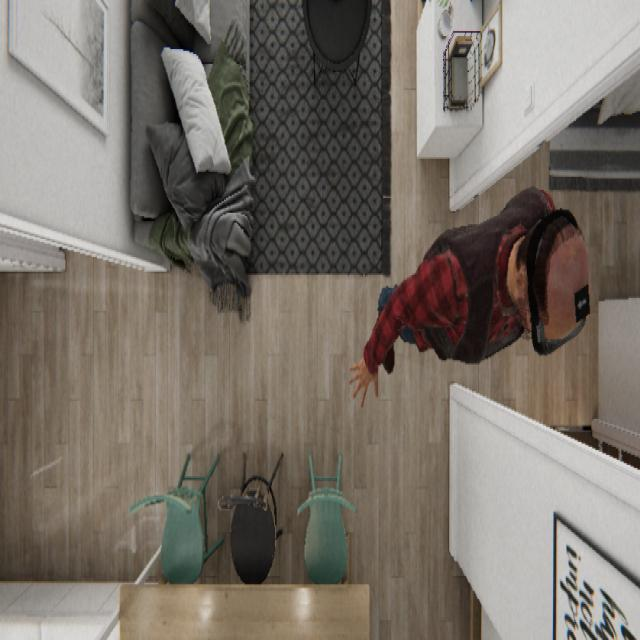Human: (348, 184, 590, 408)
UnityLogo: (573, 280, 590, 322)
